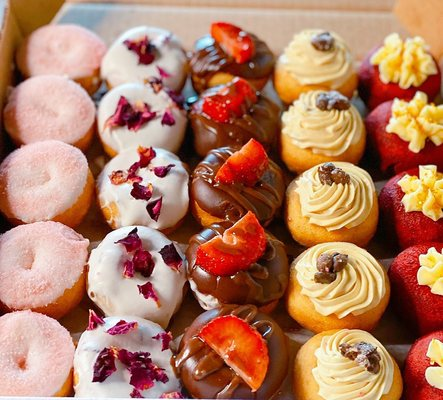salad: (171, 306, 290, 398), (87, 225, 187, 330), (72, 314, 184, 397), (0, 221, 89, 320), (189, 137, 285, 228), (0, 140, 95, 228), (96, 145, 190, 232), (96, 78, 188, 158), (3, 74, 97, 152), (0, 310, 76, 397), (15, 23, 107, 94), (101, 25, 190, 94)
sushi: (185, 213, 290, 313), (286, 242, 391, 335), (188, 138, 285, 230), (284, 161, 379, 249), (187, 76, 281, 158), (293, 329, 404, 398), (280, 90, 367, 173), (364, 92, 443, 178), (356, 32, 441, 111), (273, 28, 359, 104), (377, 164, 443, 253), (388, 243, 443, 338), (403, 330, 443, 399)
